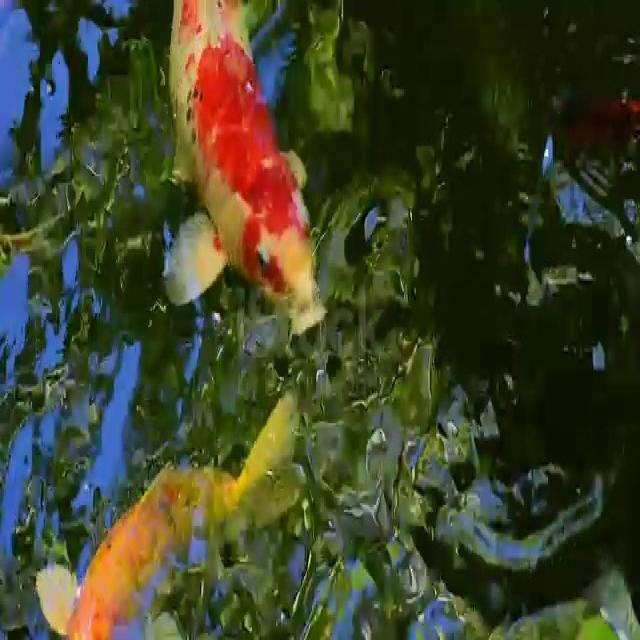fish: (28, 384, 312, 640), (159, 2, 341, 350)
